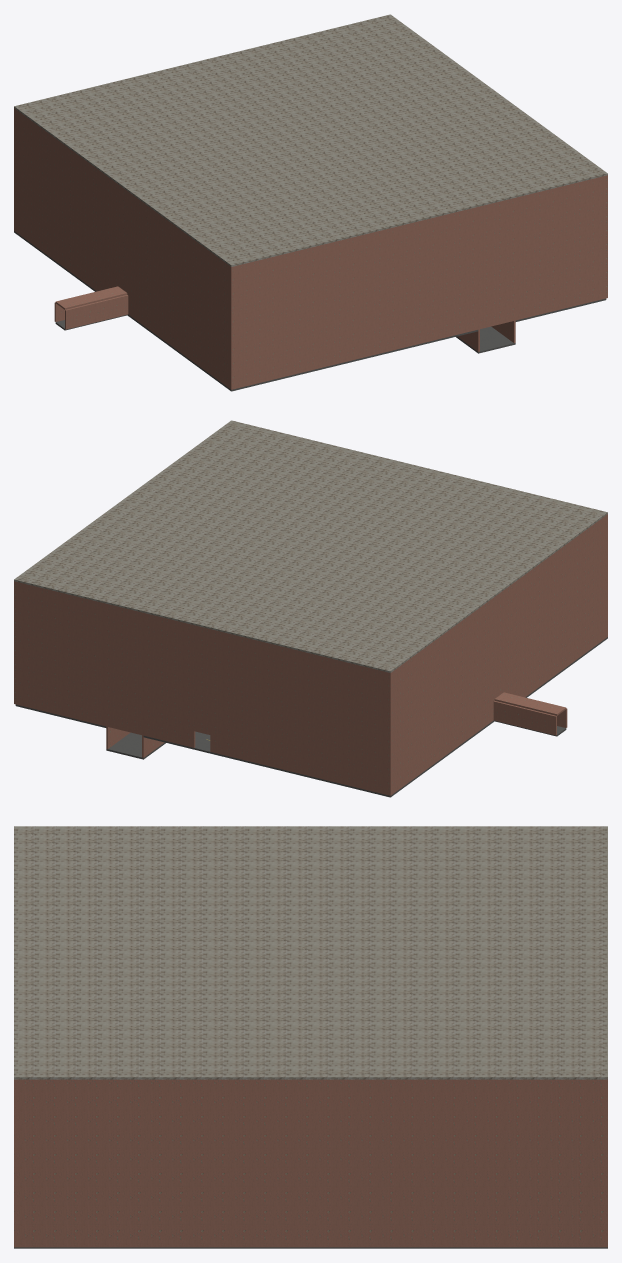
Rendered from zone_tower.glb.
3 renders of one model, top to bottom at view 1: azimuth 30°, elevation 25°; view 2: azimuth 150°, elevation 25°; view 3: azimuth 270°, elevation 25°, orthographic. The views are drawn at different scales.
Visible parts, largest first — view 1: T_ceiling, T_walls, T_floor; view 2: T_ceiling, T_walls, T_floor; view 3: T_ceiling, T_walls, T_floor.
Boxes of the visible parts, x1,y1,x2,y2 form: T_ceiling: [14, 14, 607, 266]; T_walls: [14, 108, 607, 389]; T_floor: [14, 231, 606, 391]; T_ceiling: [14, 420, 607, 672]; T_walls: [14, 514, 607, 795]; T_floor: [15, 637, 607, 797]; T_ceiling: [14, 826, 607, 1079]; T_walls: [14, 1079, 607, 1247]; T_floor: [14, 1247, 607, 1248].
Size of the model in its own units: 82.3 by 26.6 by 70.6.
8 materials, 8 textured.
